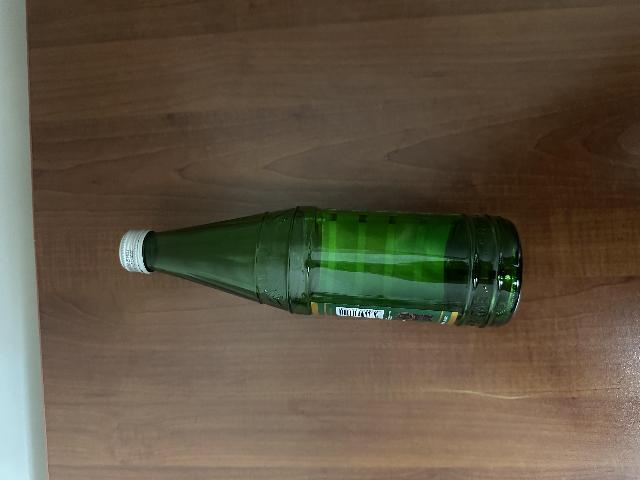Cam: (157, 205, 522, 327)
Metal: (113, 227, 149, 276)
